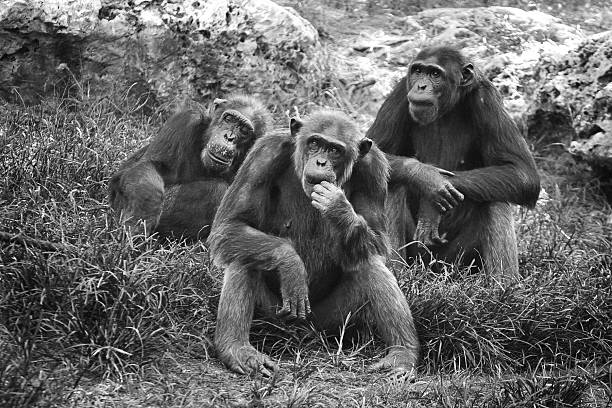chimpanzee: (381, 30, 499, 145), (275, 102, 374, 208), (189, 77, 270, 193)
